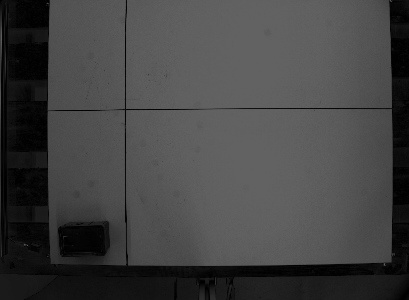kltxs: (56, 218, 112, 259)
